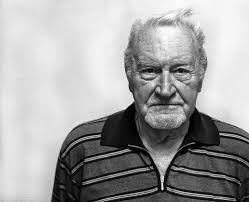white_male: (132, 22, 204, 134)
